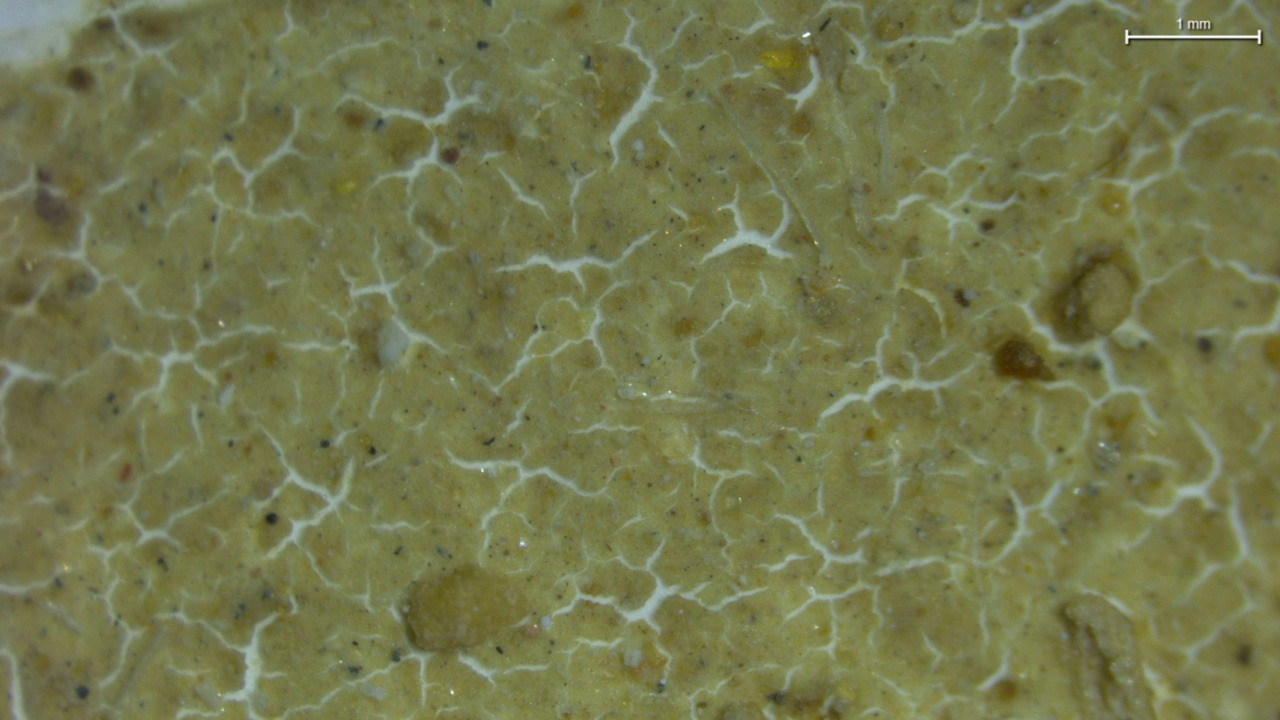microplastic_fragment: (398, 576, 545, 653), (376, 320, 406, 362)
